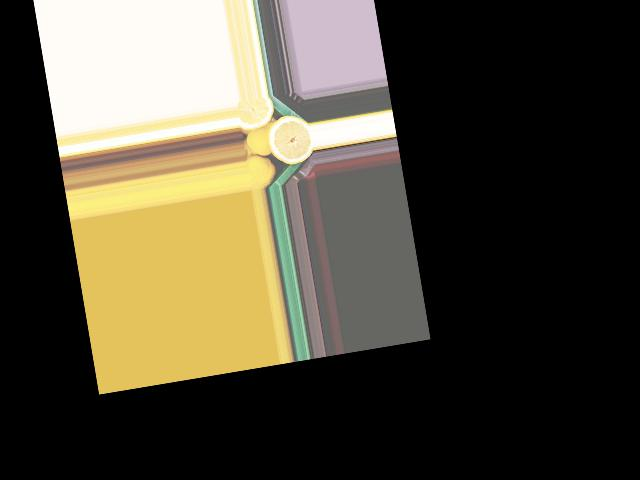lemon: (242, 120, 278, 157)
